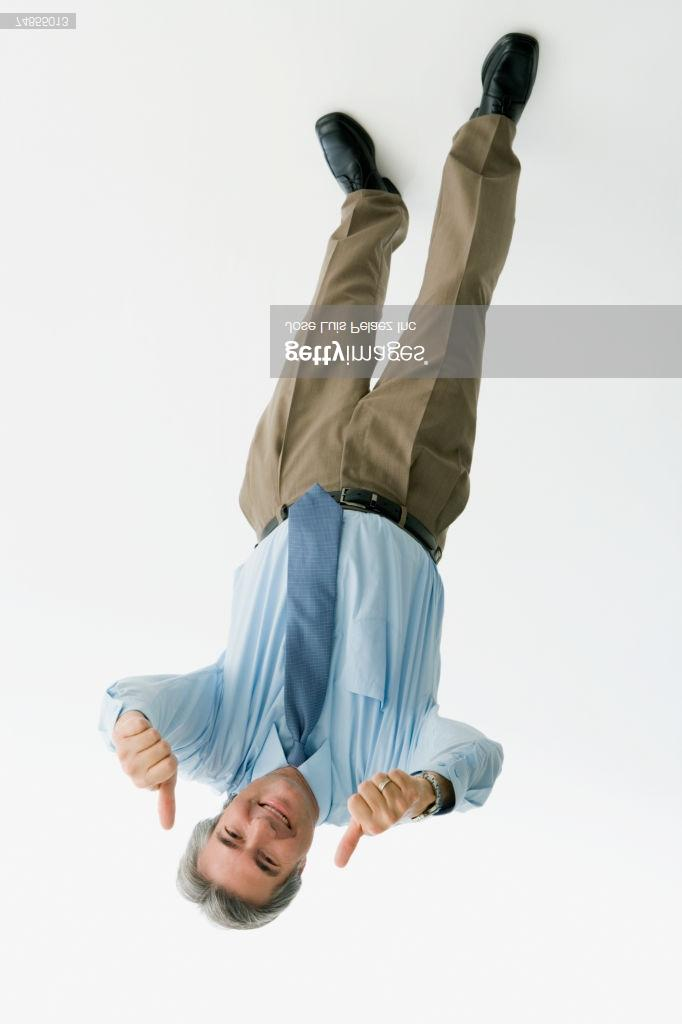thumbsdown: (334, 769, 419, 868), (112, 712, 178, 830)
